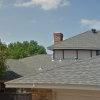Chimney: (48, 24, 63, 47)
